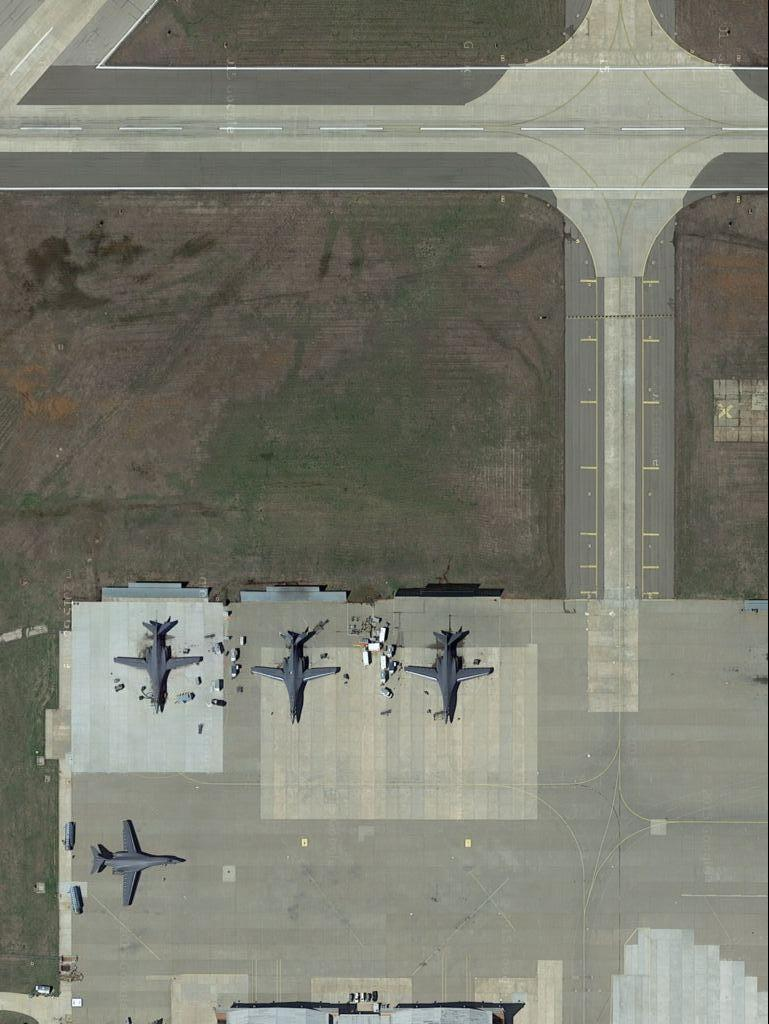B-1B: (405, 623, 498, 729), (111, 613, 204, 718), (88, 817, 186, 911), (255, 623, 341, 725)
